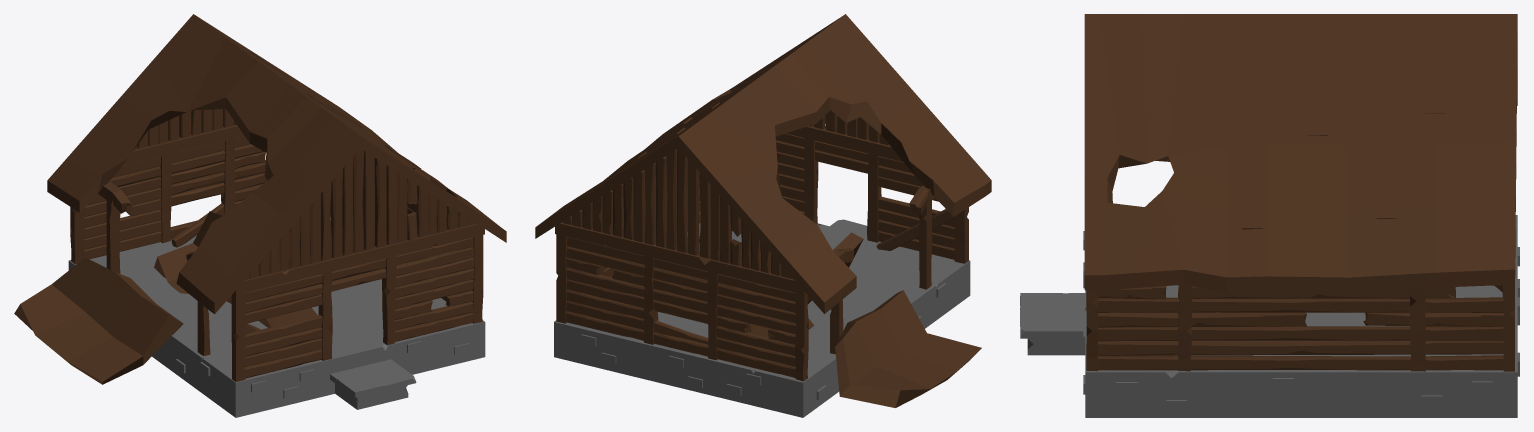
File: lowpolyhousefinal.fbx
3 views of the same model, side by side, from view 1: azimuth 30°, elevation 25°; view 2: azimuth 150°, elevation 25°; view 3: azimuth 270°, elevation 25° (orthographic). The views are drawn at different scales.
Visible parts, largest first — view 1: Cube; view 2: Cube; view 3: Cube.
Boxes of the visible parts, x1,y1,x2,y2 form: Cube: [14, 14, 506, 417]; Cube: [535, 14, 991, 417]; Cube: [1020, 14, 1519, 417].
Size of the model in its own units: 413 by 281 by 392.
